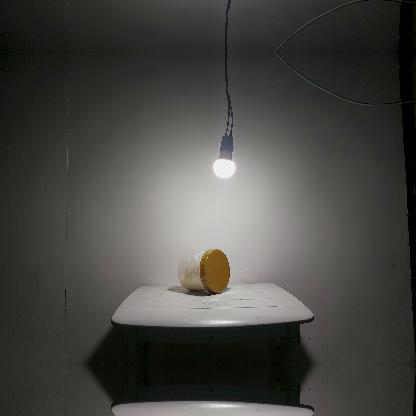Lady-s-Choice: (177, 247, 231, 295)
